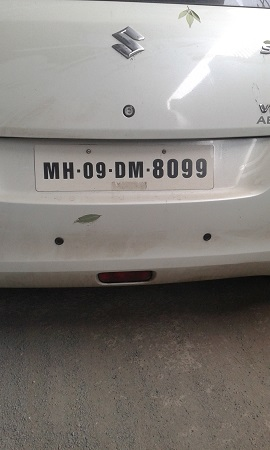licenseplate: (31, 141, 219, 193)
